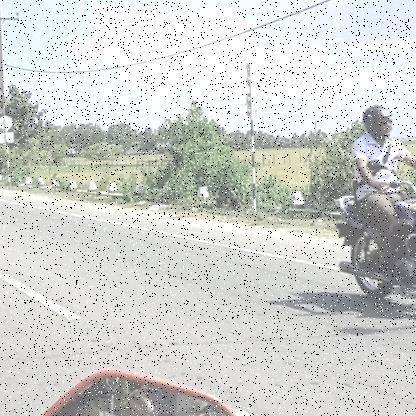motorcycle: (317, 172, 416, 328)
